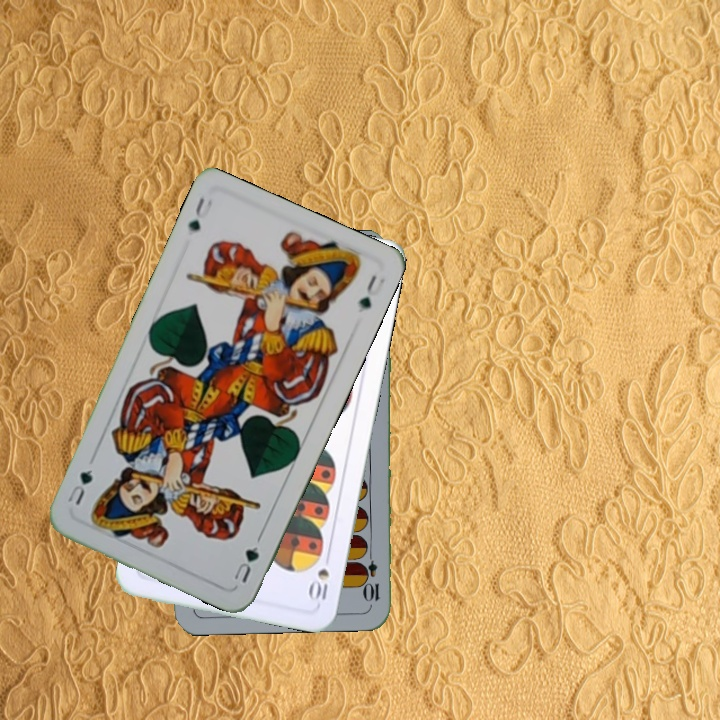E10: (363, 545, 382, 604)
GU: (228, 542, 262, 586), (183, 193, 213, 234)
S10: (306, 548, 333, 607)
